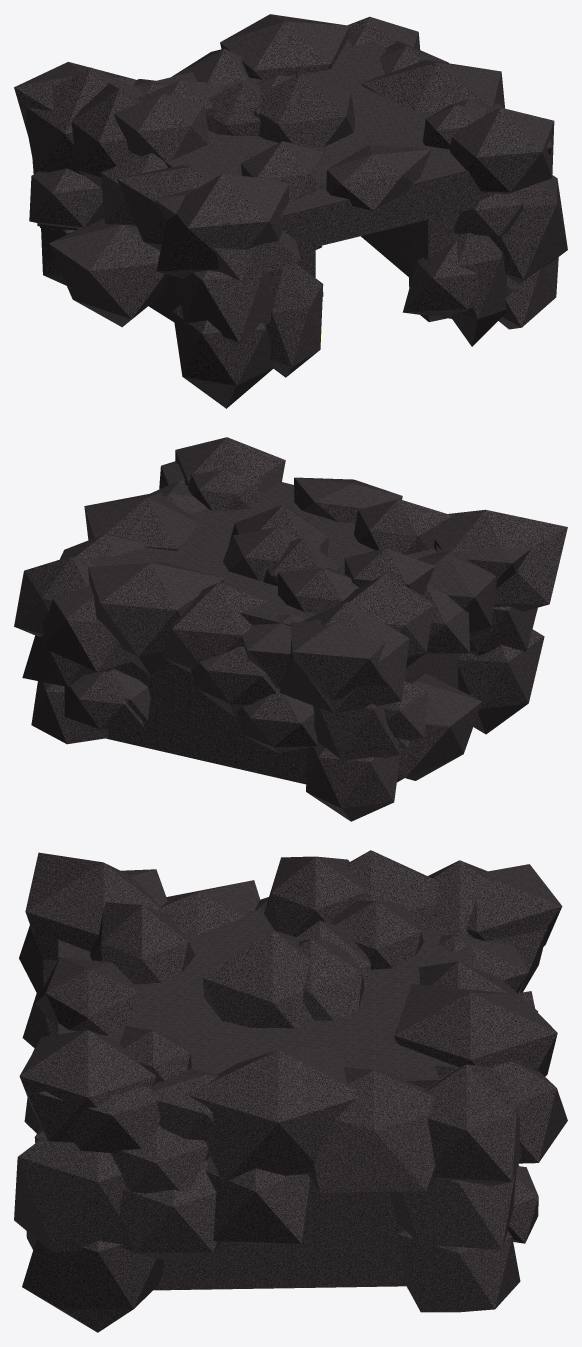
File: cave_basalt.glb
The picture shows the model from 3 angles, top to bottom: view 1: azimuth 30°, elevation 25°; view 2: azimuth 150°, elevation 25°; view 3: azimuth 270°, elevation 25°; orthographic projection. The views are drawn at different scales.
Parts seen in each view (by area): view 1: Body.002; view 2: Body.002; view 3: Body.002.
Boxes of the visible parts, x1,y1,x2,y2 form: Body.002: [14, 14, 567, 408]; Body.002: [14, 437, 567, 821]; Body.002: [14, 850, 567, 1332].
Bounding box in the file's own units: 13.2 × 7.49 × 11.5.
Materials: 2 (1 with a texture image).
